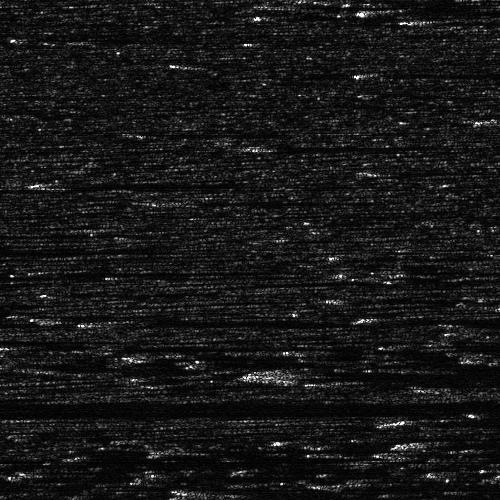object: (0, 178, 104, 187), (346, 5, 429, 14), (330, 70, 435, 77), (151, 197, 224, 204), (395, 18, 468, 23), (389, 440, 452, 445), (242, 145, 295, 150)
shadow: (0, 400, 170, 417), (51, 178, 203, 187), (0, 103, 107, 114), (188, 197, 343, 204), (388, 5, 500, 14), (383, 70, 500, 77), (269, 145, 426, 150), (421, 440, 500, 445), (432, 18, 500, 23)
